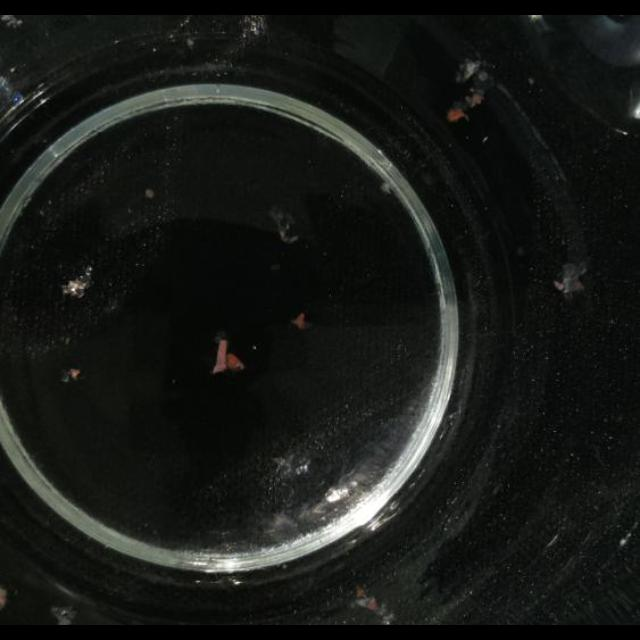Fibre: (64, 266, 95, 298)
Fragment: (354, 584, 394, 622), (210, 336, 242, 374), (552, 262, 586, 296), (291, 313, 311, 331), (61, 368, 81, 382)
microbeads: (144, 188, 156, 200), (186, 38, 194, 48)
